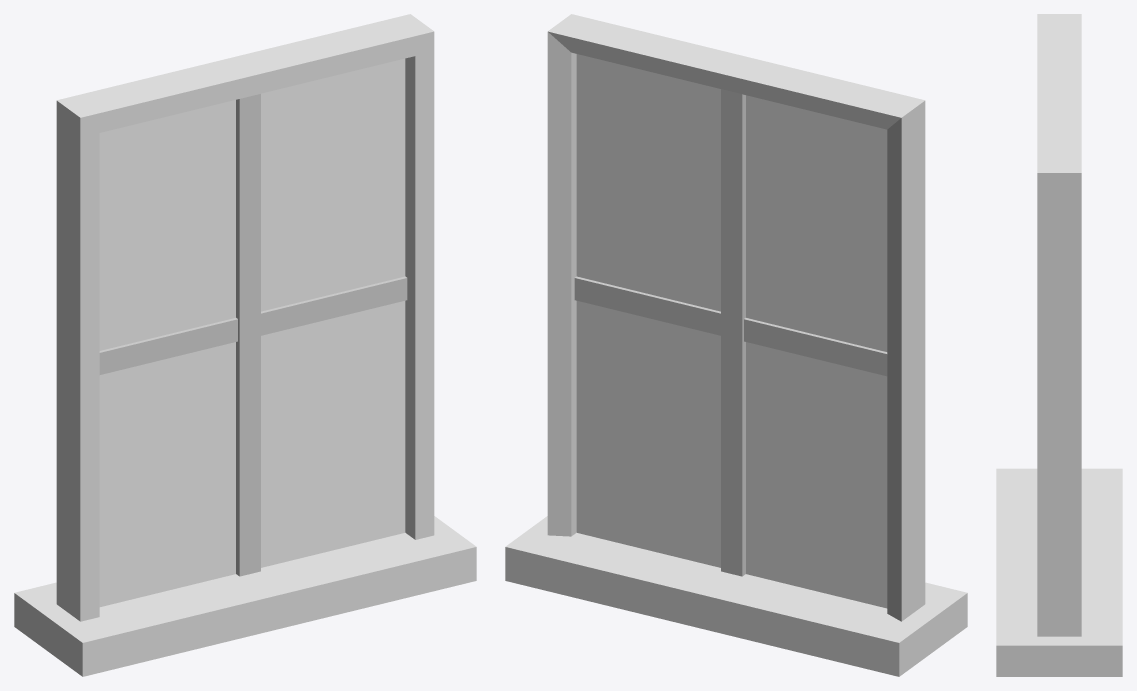
File: window_015.fbx
The picture shows the model from 3 angles, left to right: view 1: azimuth 30°, elevation 25°; view 2: azimuth 150°, elevation 25°; view 3: azimuth 270°, elevation 25°; orthographic projection. The views are drawn at different scales.
Visible parts, largest first — view 1: window_015; view 2: window_015; view 3: window_015.
Boxes of the visible parts, <box> form: window_015: <box>14,14,476,676</box>; window_015: <box>505,14,967,676</box>; window_015: <box>996,14,1122,676</box>.
Size of the model in its own units: 142 by 42.75 by 185.
